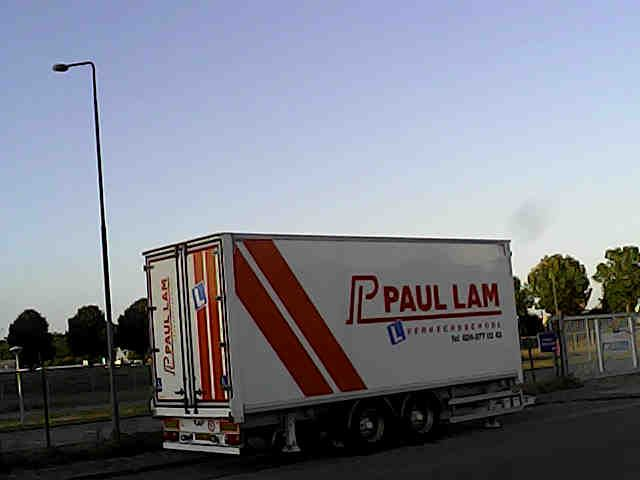whitevan: (144, 233, 522, 453)
